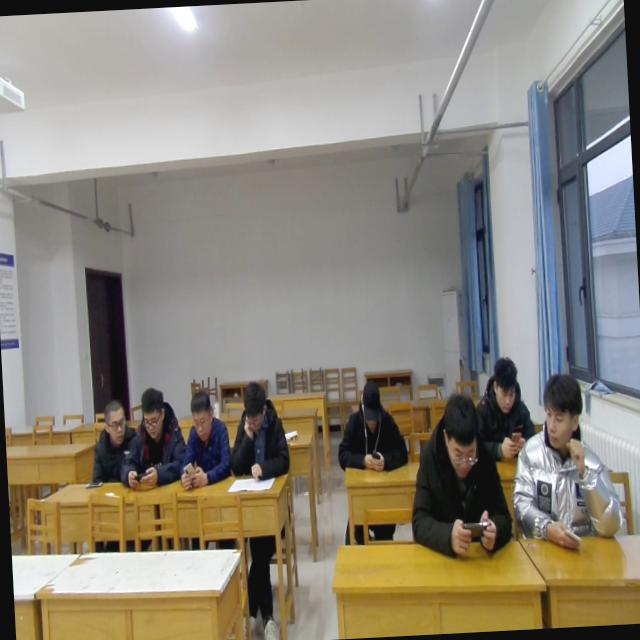down: (438, 385, 483, 479), (489, 355, 521, 418), (136, 383, 170, 441), (352, 374, 386, 430), (238, 378, 270, 436), (186, 388, 217, 443)
sit: (505, 371, 627, 556), (404, 388, 516, 564), (333, 380, 413, 476), (470, 356, 540, 464), (118, 386, 188, 491), (225, 380, 291, 483), (175, 388, 234, 494), (87, 396, 143, 486)
